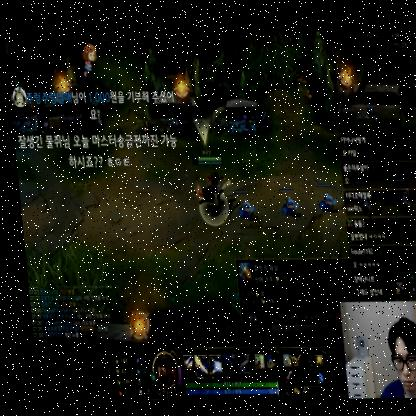donation: (5, 38, 178, 171)
streamer: (364, 317, 416, 399)
